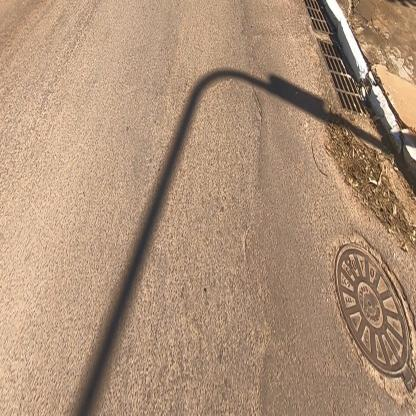manholes: (330, 233, 416, 416)
